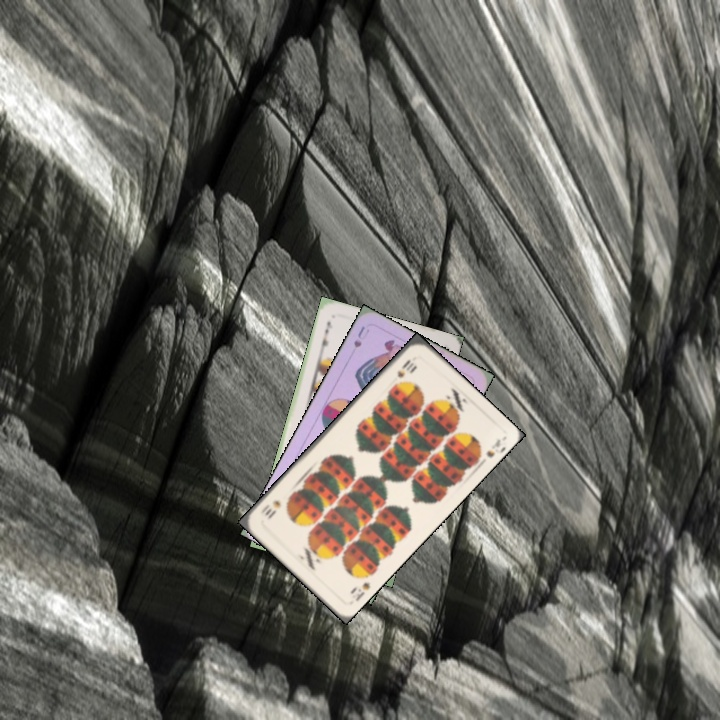E7: (315, 317, 335, 354)
S10: (393, 355, 416, 380), (351, 578, 373, 604)
SU: (349, 322, 372, 351)
